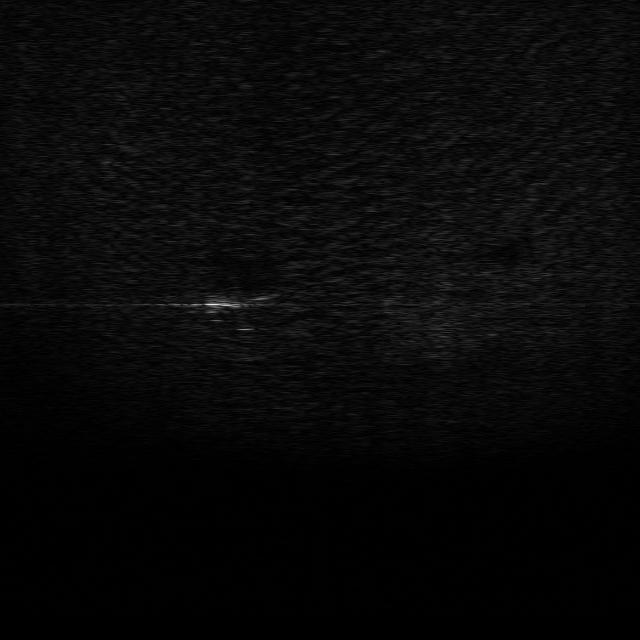plane: (192, 276, 276, 334)
